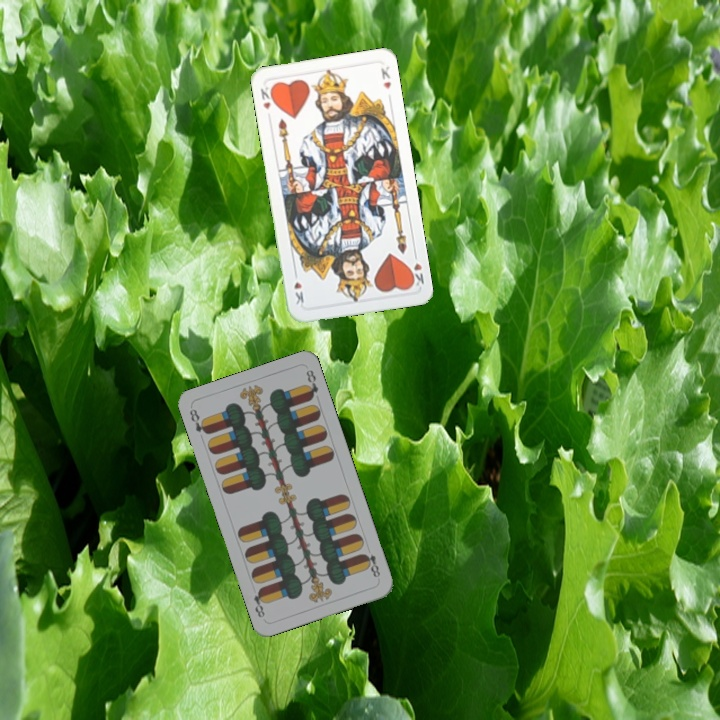E8: (185, 405, 211, 437), (359, 549, 383, 583)
HK: (405, 248, 427, 289), (256, 82, 277, 112)
